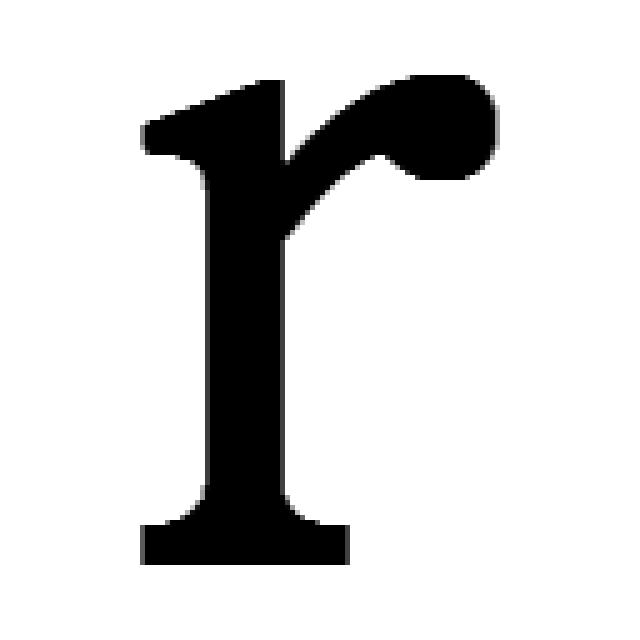R: (125, 60, 505, 570)
